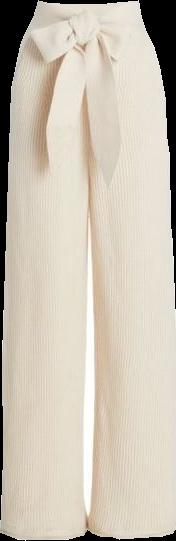Hemline: (89, 525, 175, 540), (0, 526, 86, 540)
Pantleg: (0, 1, 90, 539), (90, 0, 175, 537)
Waistline: (27, 16, 144, 31), (34, 0, 137, 10)
